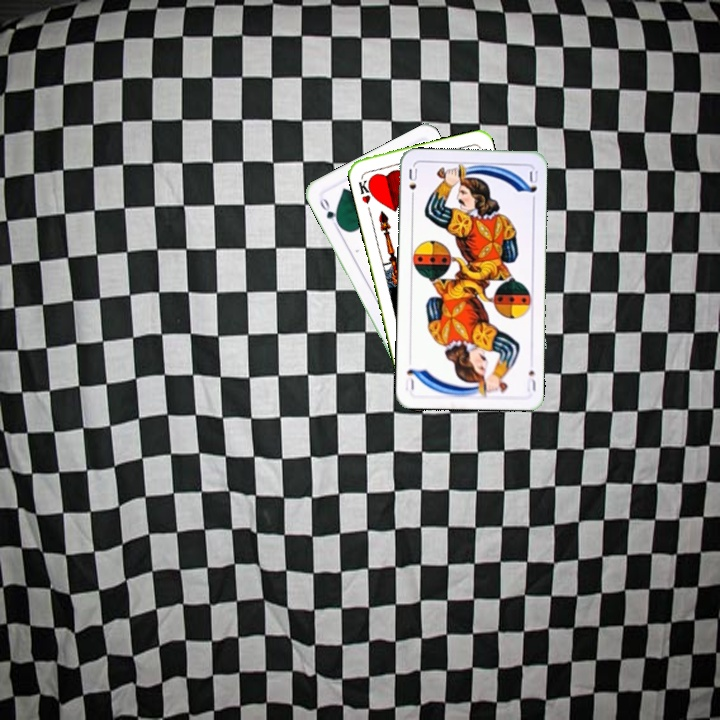GO: (315, 193, 343, 231)
HK: (354, 174, 377, 206)
SU: (405, 164, 420, 204), (523, 366, 538, 394)
